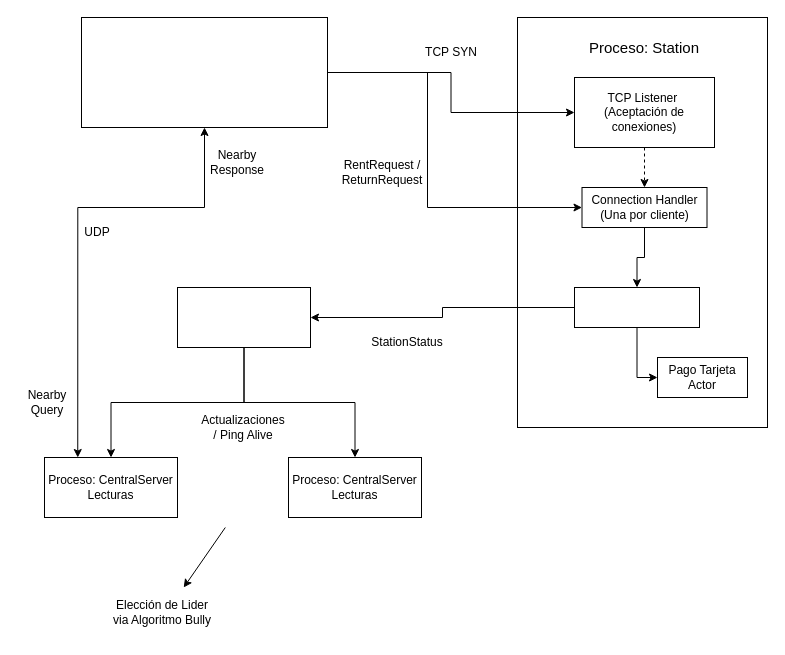
Some shapes in this 785 by 655 pixel diagram are drawn without their labels. Each missing label, with the centre of its shape:
Proceso: App: the point at 204,72
Proceso: CentralServer (Lider) Escrituras: the point at 243,317
Station Actor: the point at 637,307
